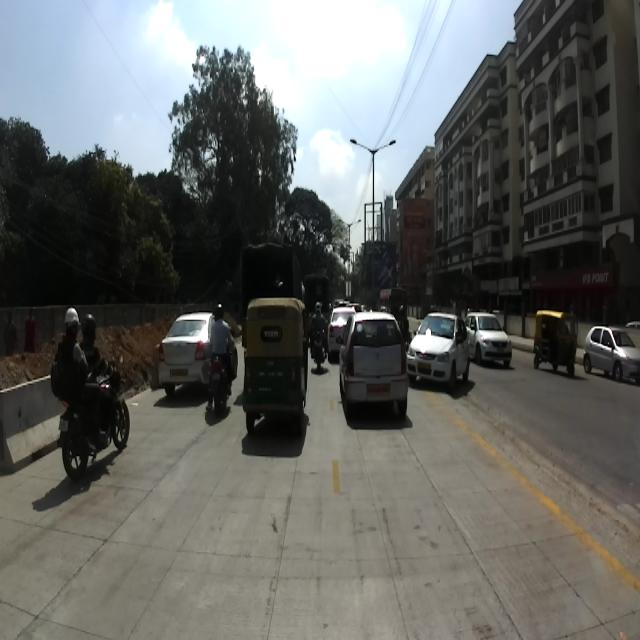auto ahead at: (242, 296, 306, 433)
car ahead at: (344, 310, 410, 415), (413, 306, 472, 396), (157, 303, 210, 384)
motorcycle ahead at: (58, 365, 132, 481)
